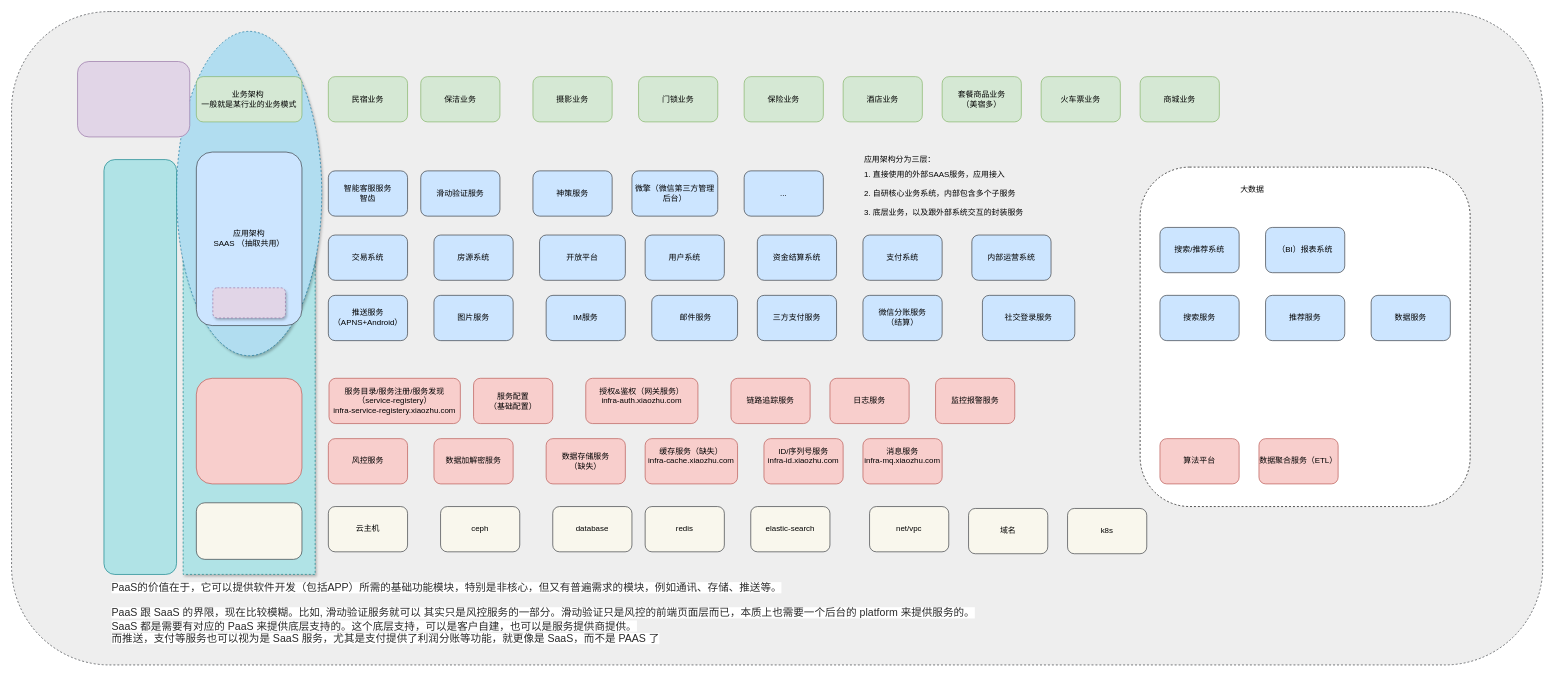
Image size: 1554x677. Some labels were removed from this diagram. The shapes that lost their labels are listed below. From the top down, each one's centre as x and y in pixels, then its label:
the point at 133,99: 数据架构其实是业务架构的一种模型体现。 应用架构结合数据架构 的，是实现业务架构的 逻辑实现
the point at 249,304: 数据架构
the point at 140,366: 技术架构 本身包含了 基础设施，基础服务，应用服务的 。 是一种概括性的技术体系结构
the point at 249,431: 基础服务 PAAS - 核心功能模块 类比操作系统，类比 fopen, fwrite, fsync。 消除基础设施依赖
the point at 249,530: 基础设施架构（运维）IAAS 类比CPU，内存，磁盘。消除物理依赖，不必自己组装机器，机房管理等等
